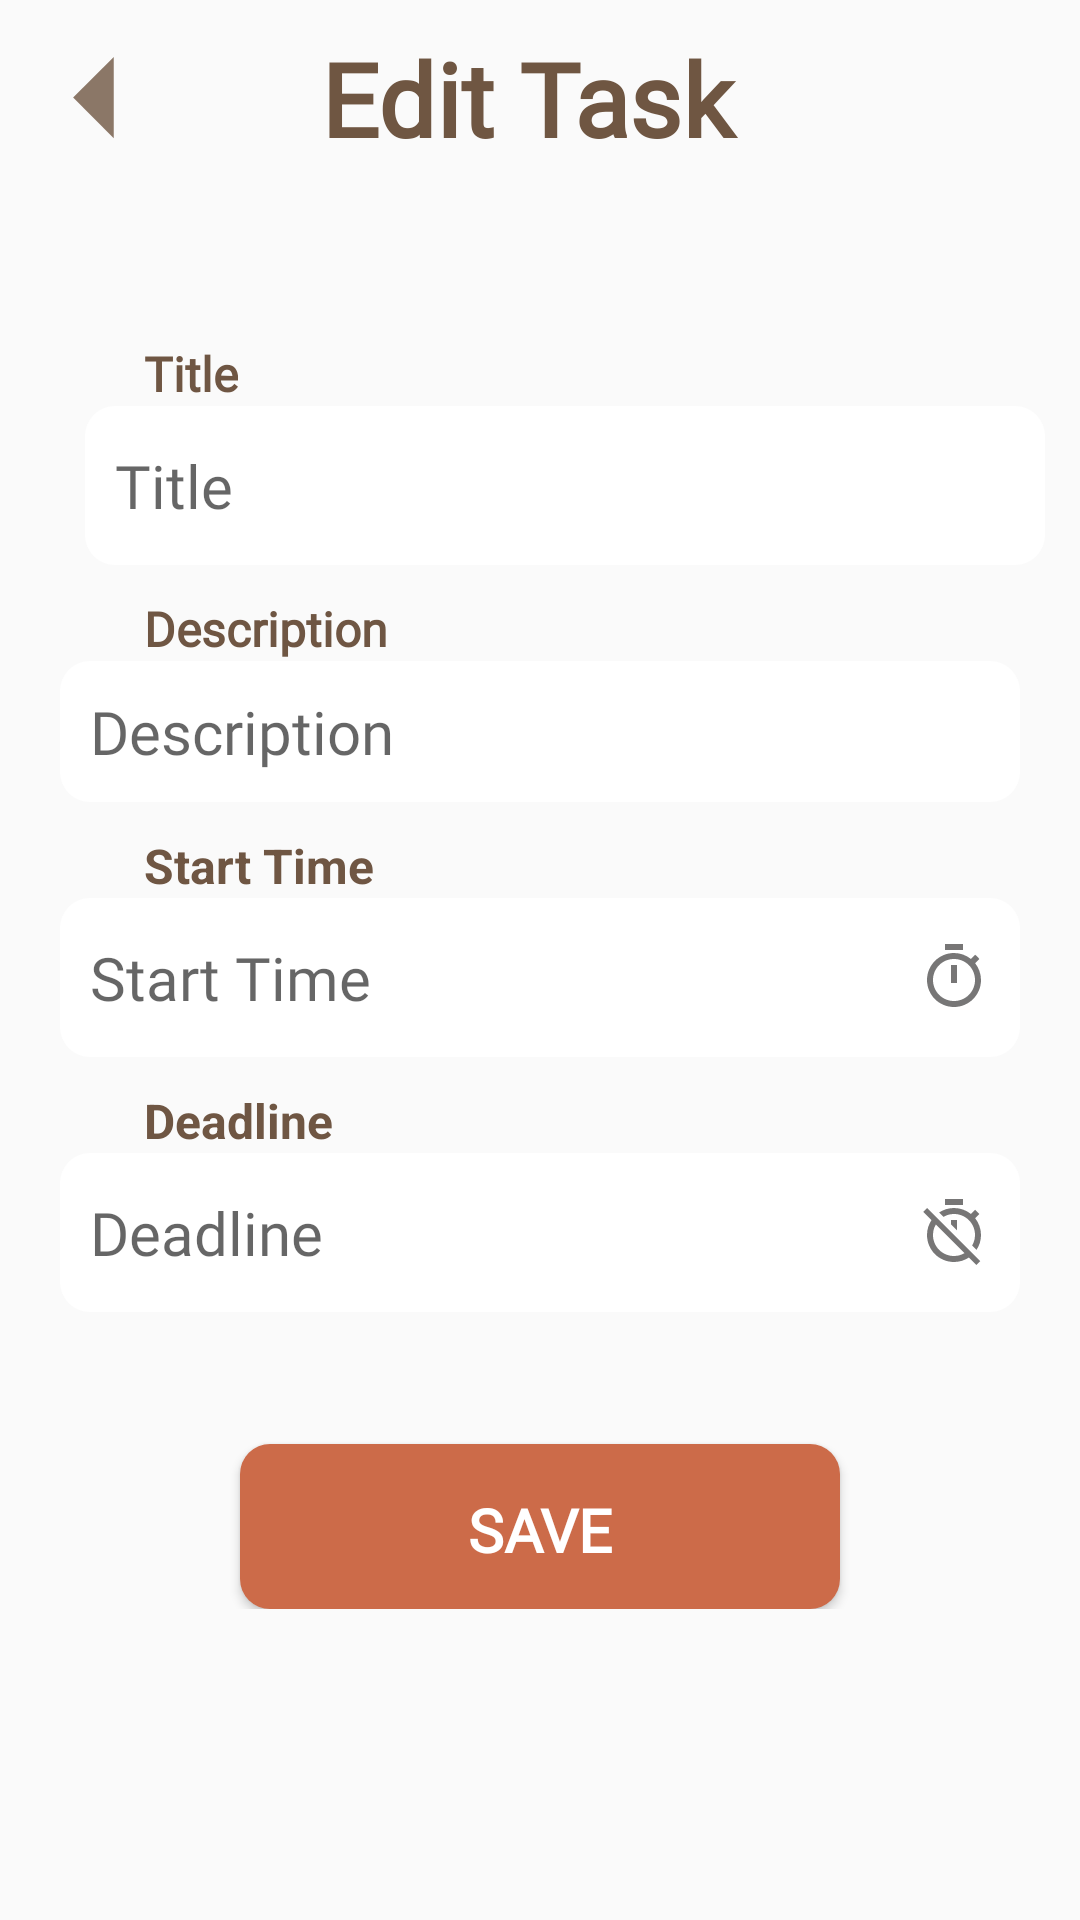

Named icons in this screenshot (1080×1920) and their centers, (x=x, y=y):
back: (x=93, y=97)
